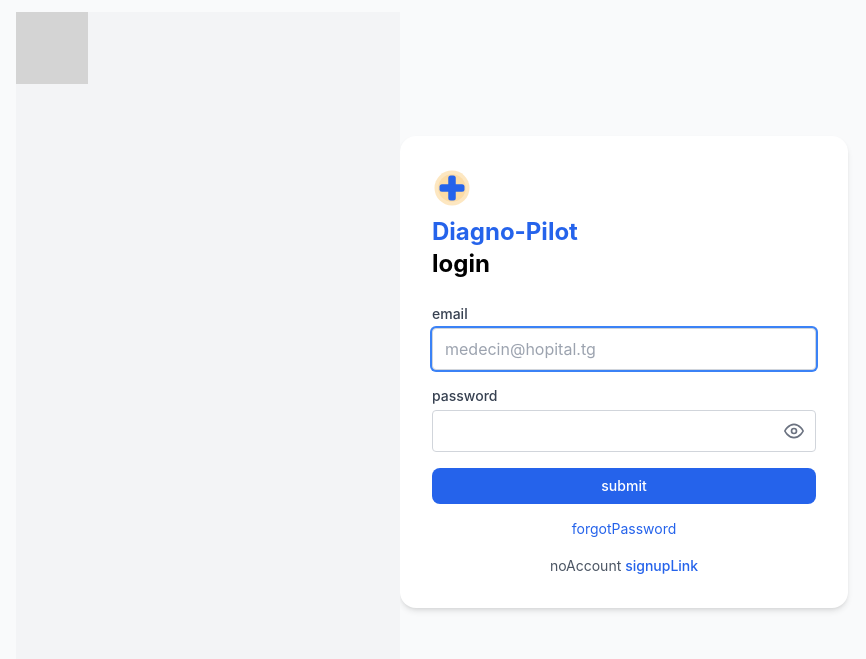
Test: LoginPage — page-level tests › does not redirect when login throws (invalid credentials)
Type "bad@test.com" into the field labelled "email" at (624, 349), box [432, 328, 816, 370]
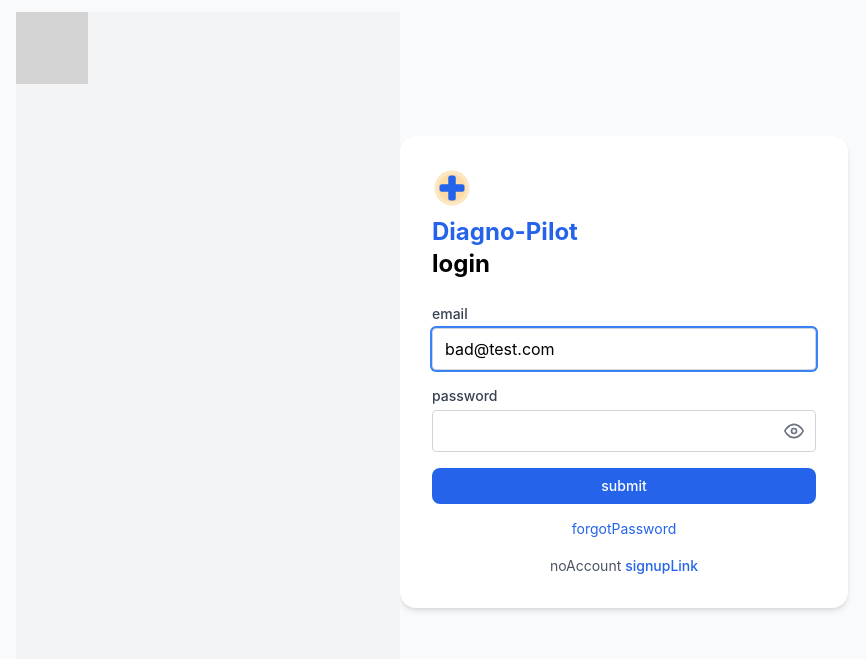
Type "wrongpass" into the password field labelled "password" at (624, 431), box [432, 410, 816, 452]
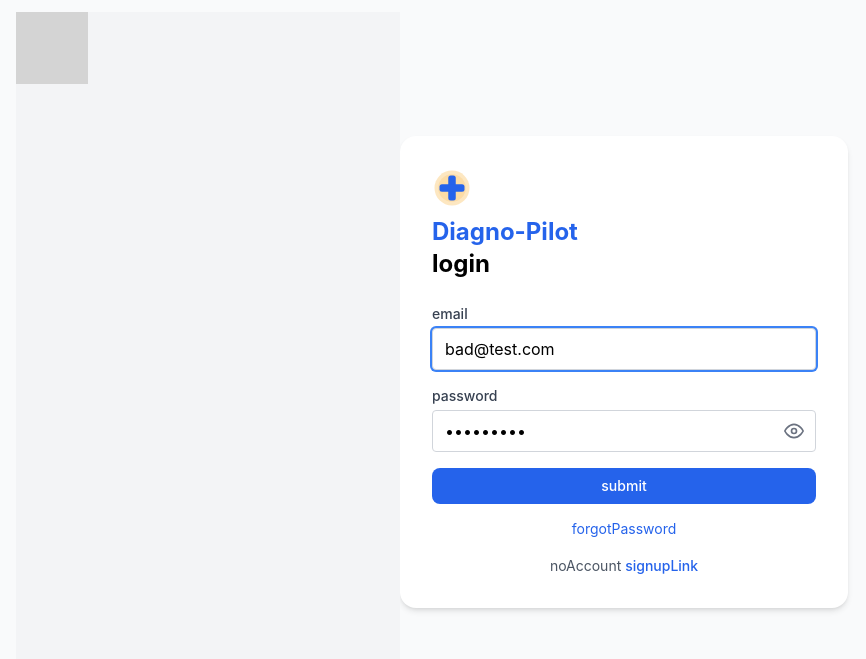
Submit the form "email password submit", box [432, 304, 816, 504]
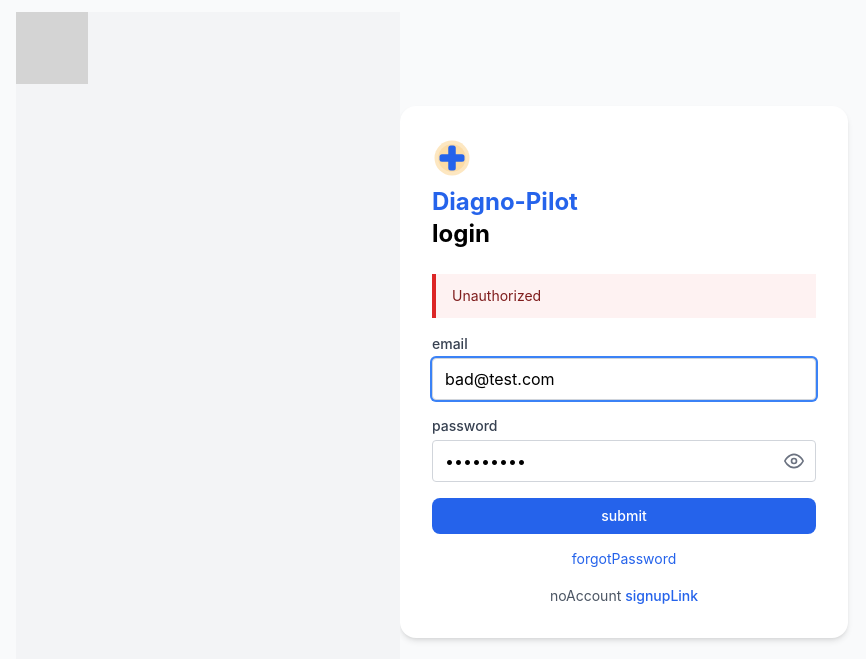
Result: the message "Unauthorized" is shown at [432, 274, 816, 318]
